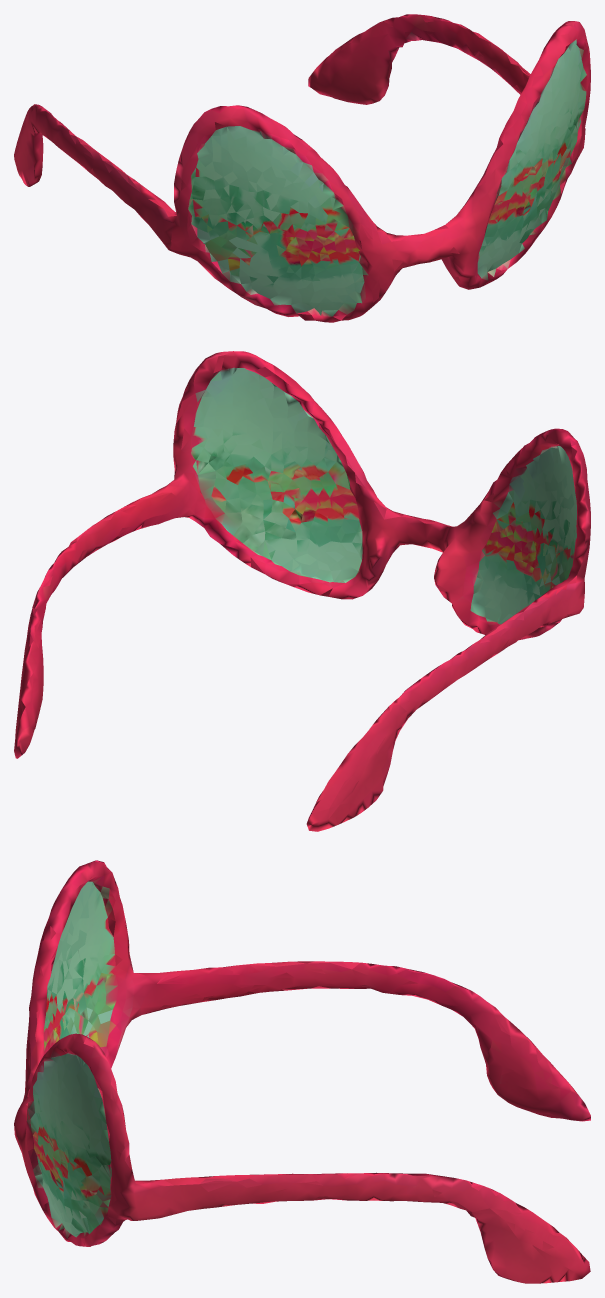
File: glasses.glb
3 renders of one model, top to bottom at view 1: azimuth 30°, elevation 25°; view 2: azimuth 150°, elevation 25°; view 3: azimuth 270°, elevation 25°, orthographic. The views are drawn at different scales.
Visible parts, largest first — view 1: texture_pbr_v128; view 2: texture_pbr_v128; view 3: texture_pbr_v128.
Part boxes in pixels (<box>): texture_pbr_v128: <box>14,14,590,322</box>; texture_pbr_v128: <box>14,351,590,831</box>; texture_pbr_v128: <box>14,860,590,1283</box>.
Size of the model in its own units: 1.59 by 0.8513 by 1.78.
1 material, 1 textured.
